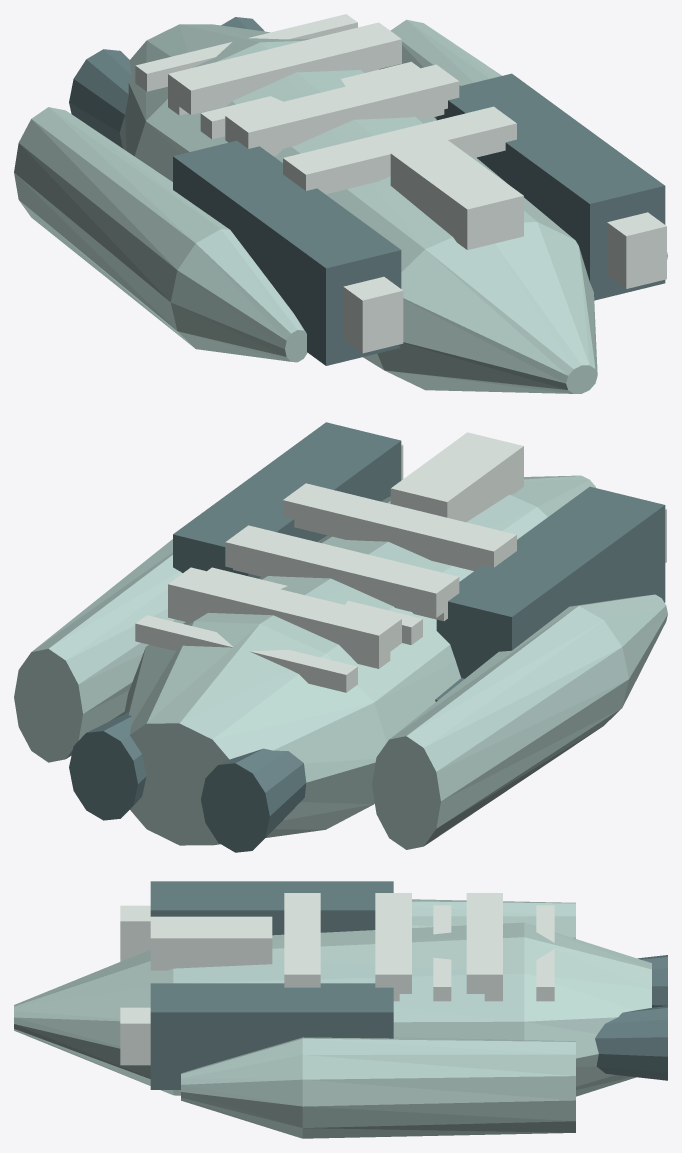
The picture shows the model from 3 angles, top to bottom: view 1: azimuth 30°, elevation 25°; view 2: azimuth 150°, elevation 25°; view 3: azimuth 270°, elevation 25°; orthographic projection. The views are drawn at different scales.
Size of the model in its own units: 2.57 by 1.16 by 4.
